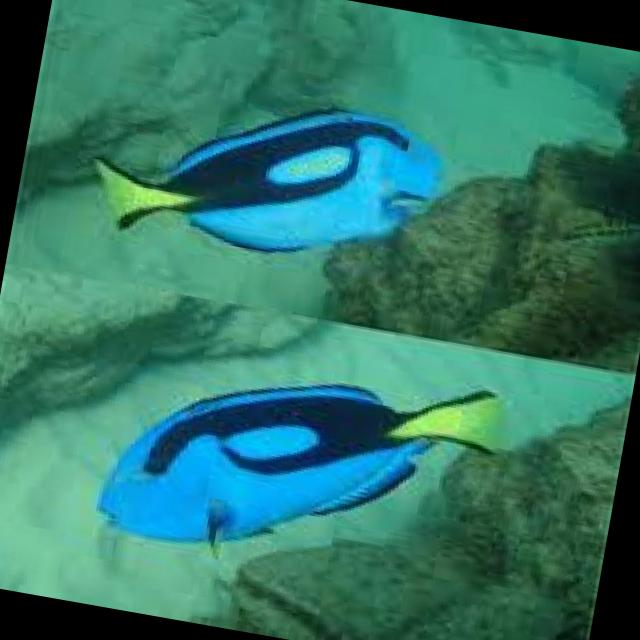TangFish: (90, 324, 508, 599), (81, 66, 448, 296)
